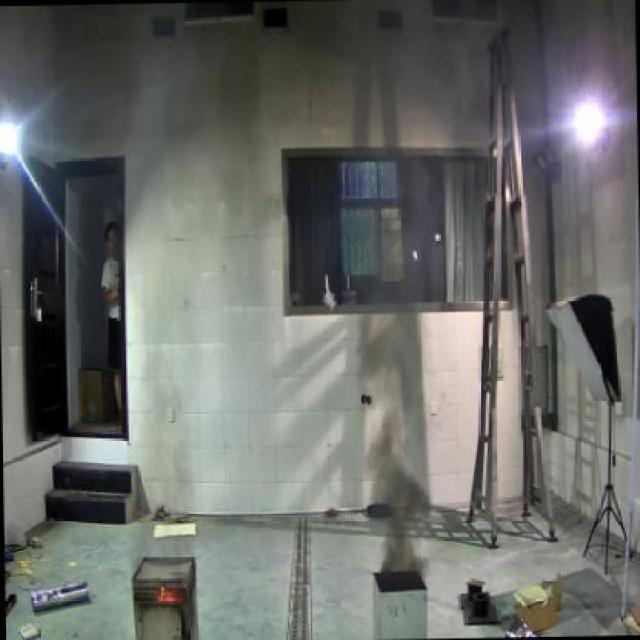fire: (362, 406, 436, 569)
